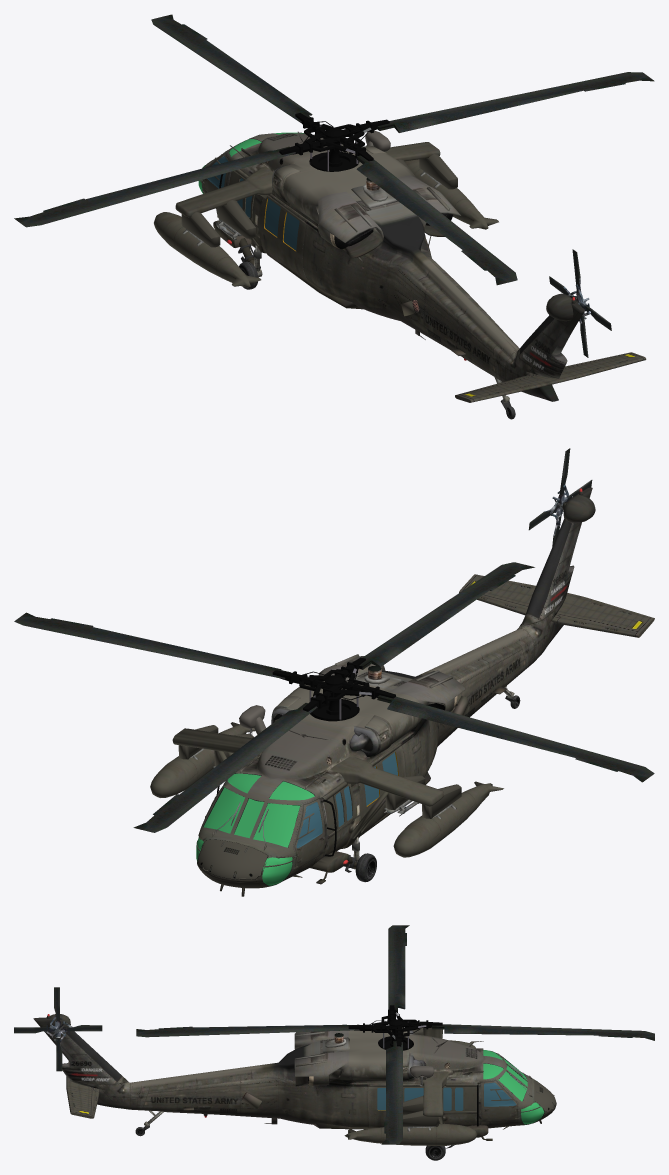
File: helicopter.glb
The picture shows the model from 3 angles, top to bottom: view 1: azimuth 30°, elevation 25°; view 2: azimuth 150°, elevation 25°; view 3: azimuth 270°, elevation 25°; orthographic projection. The views are drawn at different scales.
Parts seen in each view (by area): view 1: fuselage, main_rotor, Door_L, elevator, rear_rotor; view 2: fuselage, main_rotor, elevator, cabinDoor_L, Door_L, rear_rotor; view 3: fuselage, main_rotor, cabinDoor_R, rear_rotor, elevator, Door_R.
Boxes of the visible parts, x1=… form: fuselage: x1=154, y1=130, x2=584, y2=414; main_rotor: x1=14, y1=14, x2=654, y2=285; Door_L: x1=260, y1=196, x2=308, y2=280; elevator: x1=455, y1=352, x2=646, y2=402; rear_rotor: x1=549, y1=249, x2=611, y2=357; fuselage: x1=150, y1=487, x2=595, y2=896; main_rotor: x1=14, y1=562, x2=654, y2=832; elevator: x1=459, y1=574, x2=654, y2=637; cabinDoor_L: x1=290, y1=797, x2=325, y2=875; Door_L: x1=360, y1=746, x2=404, y2=833; rear_rotor: x1=528, y1=448, x2=592, y2=546; fuselage: x1=33, y1=1014, x2=556, y2=1148; main_rotor: x1=136, y1=925, x2=654, y2=1144; cabinDoor_R: x1=480, y1=1080, x2=519, y2=1125; rear_rotor: x1=14, y1=987, x2=102, y2=1071; elevator: x1=66, y1=1061, x2=99, y2=1118; Door_R: x1=369, y1=1086, x2=423, y2=1127.
Bounding box in the file's own units: 15.93 × 5.23 × 19.69.
10 materials, 5 textured.
